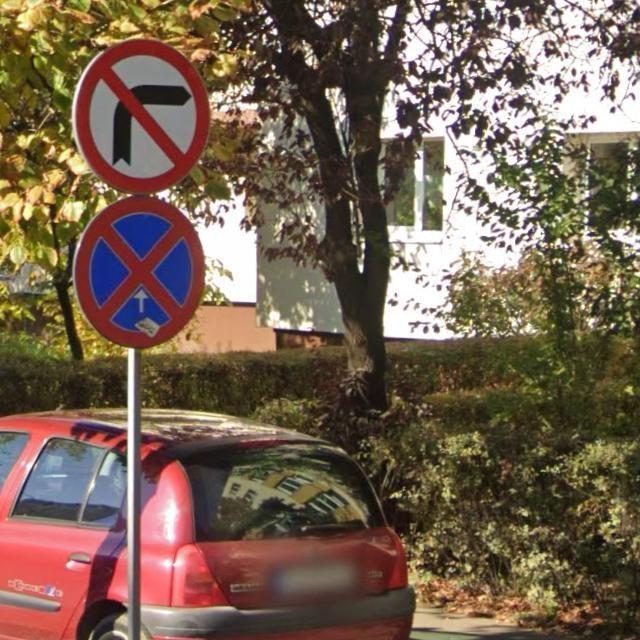forb_waiting: (71, 195, 206, 348)
